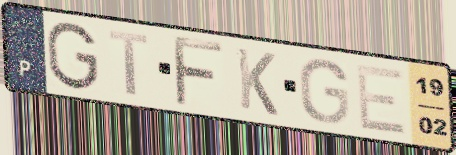E: (353, 62, 410, 138)
F: (170, 32, 227, 109)
G: (43, 20, 101, 92), (297, 57, 352, 126)
K: (234, 45, 281, 119)
T: (106, 27, 152, 99)
